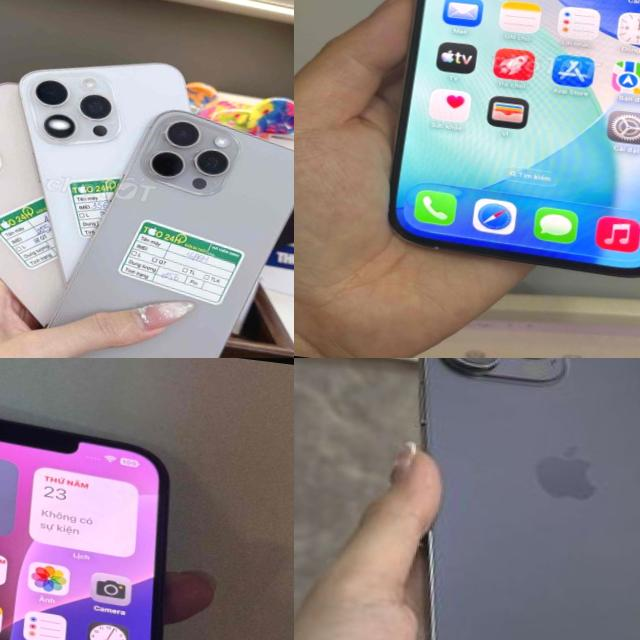gen_12_13: (0, 383, 211, 640)
gen_14: (362, 358, 640, 640)
gen_15: (377, 0, 640, 283)
gen_16: (36, 96, 294, 358)
scratch: (406, 524, 453, 640)
